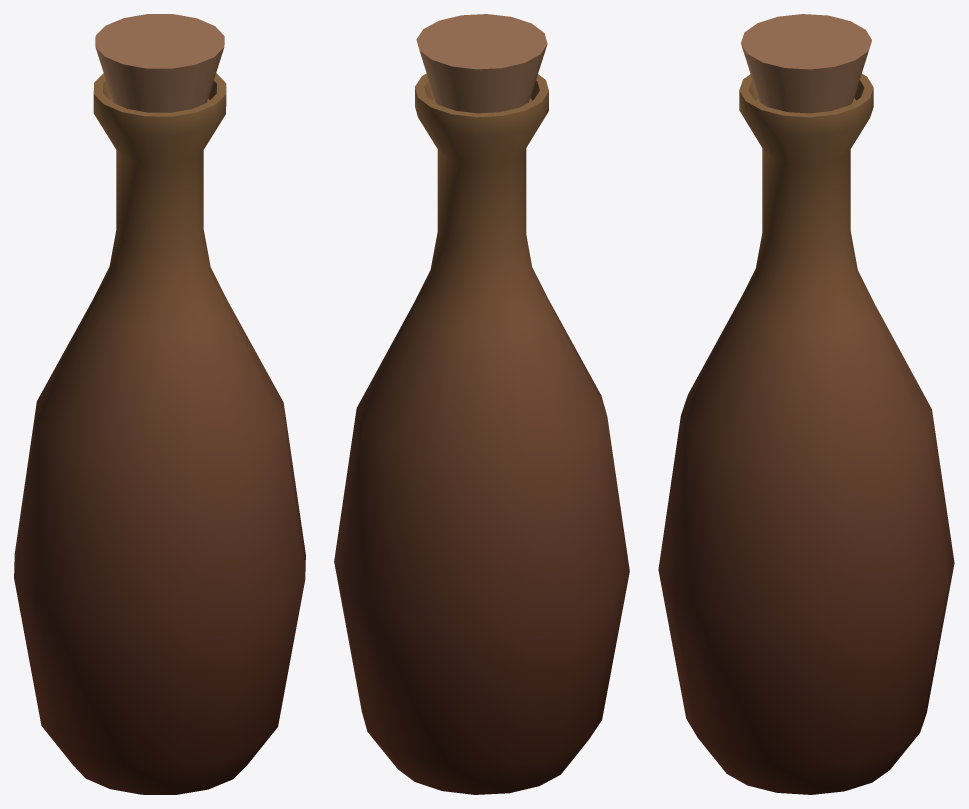
Rendered from WineBottle_1.fbx.
The picture shows the model from 3 angles, left to right: view 1: azimuth 30°, elevation 25°; view 2: azimuth 150°, elevation 25°; view 3: azimuth 270°, elevation 25°; orthographic projection.
Visible parts, largest first — view 1: WineBottle_1; view 2: WineBottle_1; view 3: WineBottle_1.
Part boxes in pixels (<box>): WineBottle_1: <box>14,14,305,794</box>; WineBottle_1: <box>334,14,629,794</box>; WineBottle_1: <box>658,14,954,794</box>.
Bounding box in the file's own units: 18.25 × 48.68 × 18.25.
